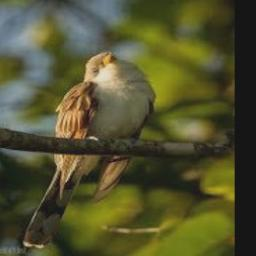Cuckoo: (24, 52, 154, 248)
